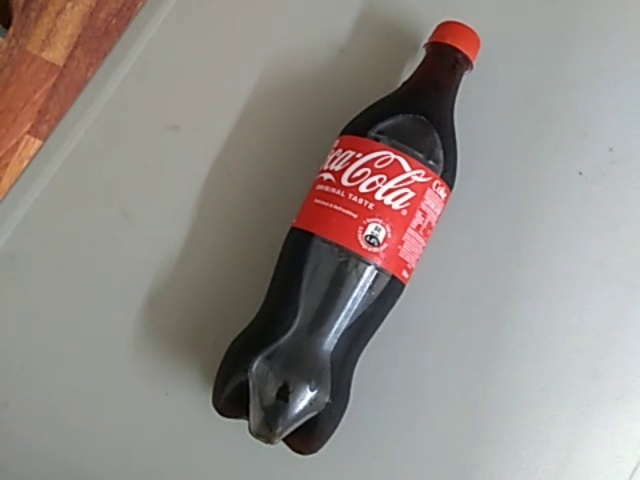Cocacola: (194, 15, 509, 457)
